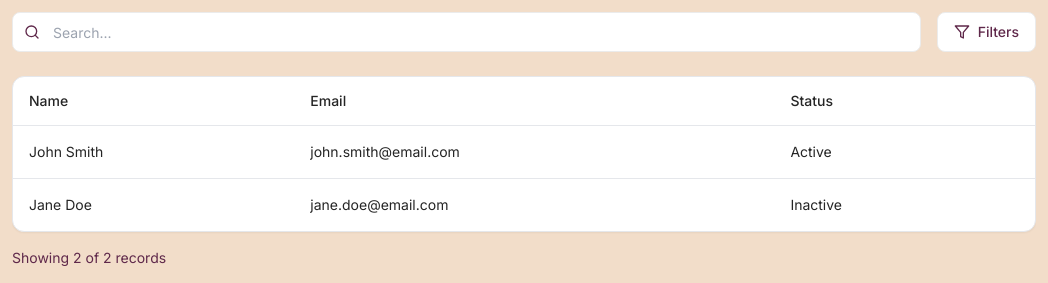
it: DataTable › shows no results message when no data matches
Type "NonExistent" into the field with placeholder "Search..." at x=466, y=32, box [12,12,921,52]
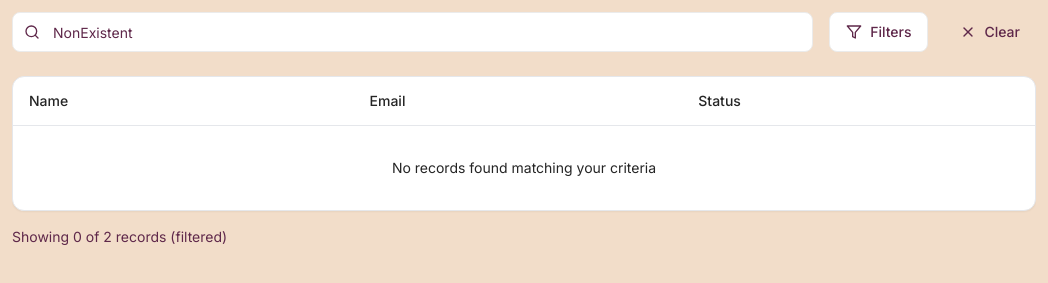
Result: the text "No records found matching your criteria" is shown at [392,158,656,176]
